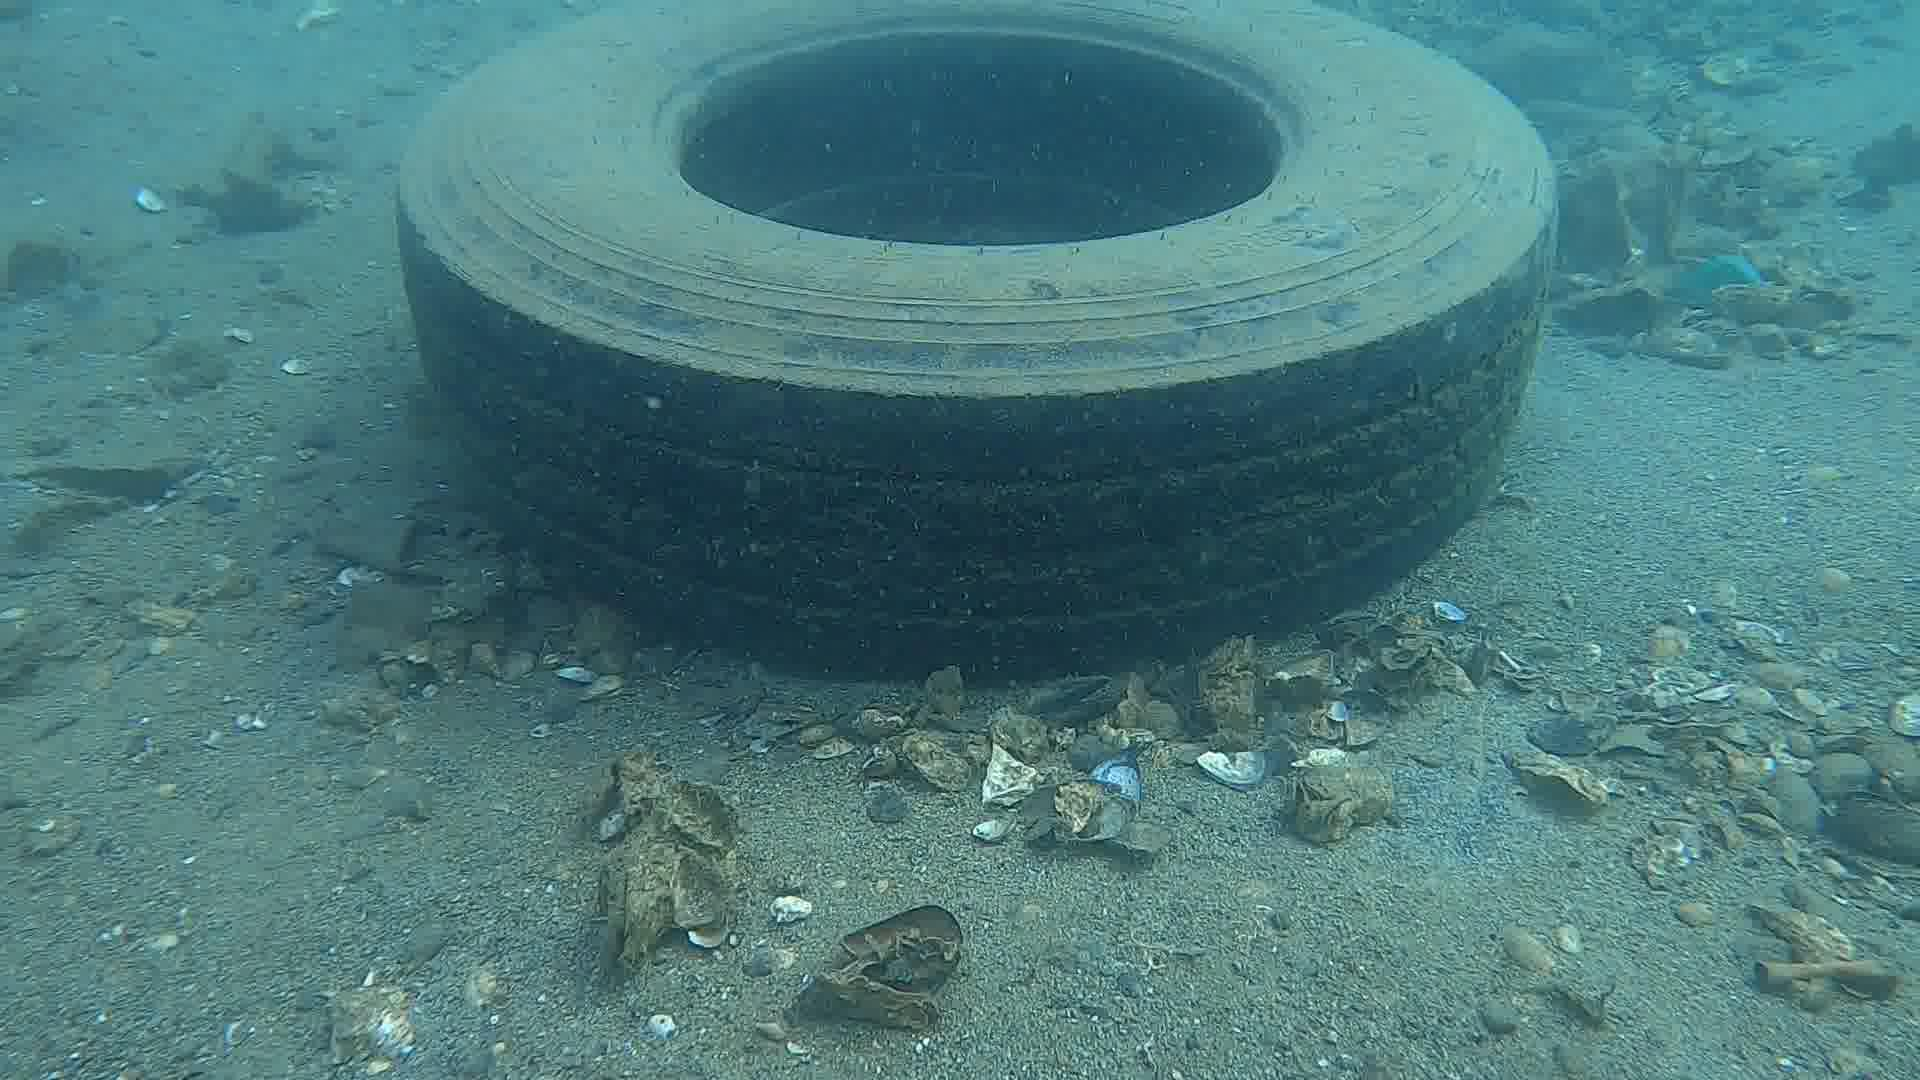tire: (392, 0, 1563, 687)
